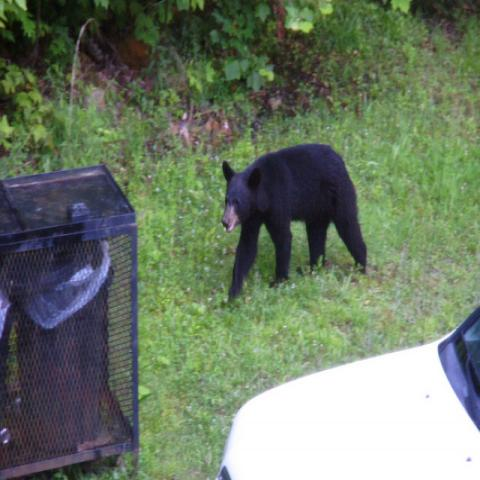car: (214, 304, 479, 478)
